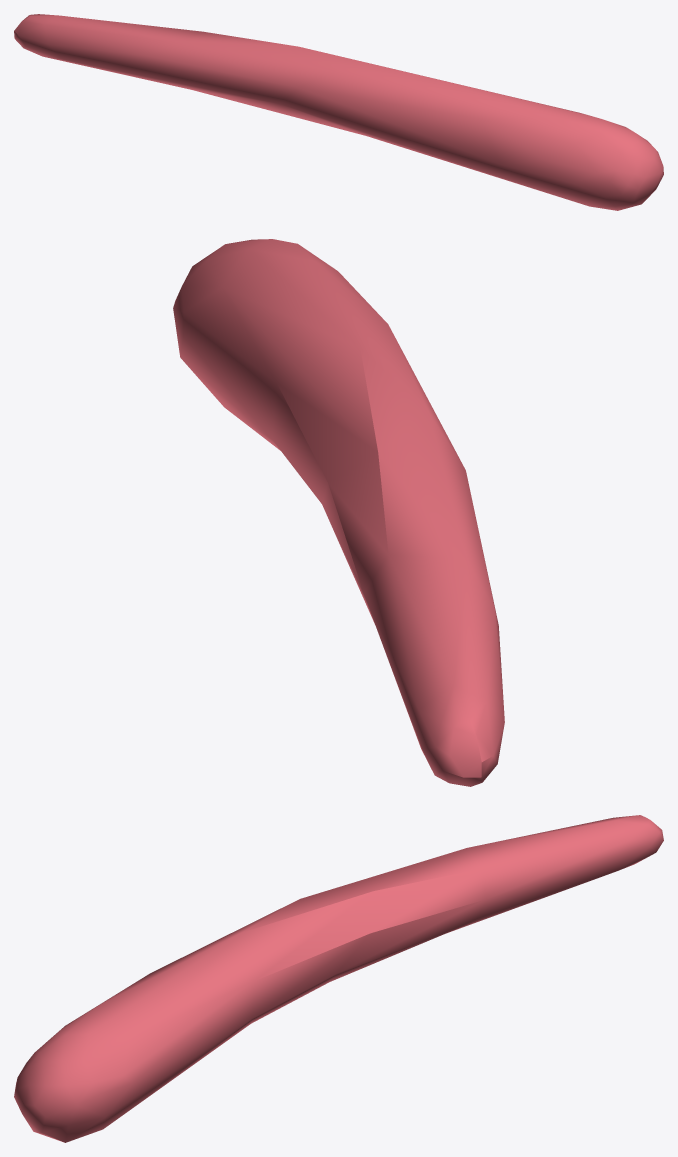
The model's file is fma9438_fj2941.glb.
3 views of the same model, one above another, from view 1: azimuth 30°, elevation 25°; view 2: azimuth 150°, elevation 25°; view 3: azimuth 270°, elevation 25° (orthographic). The views are drawn at different scales.
Visible parts, largest first — view 1: FMA9438_FJ2941; view 2: FMA9438_FJ2941; view 3: FMA9438_FJ2941.
Boxes of the visible parts, box(x1,y1,x2,y2) form: FMA9438_FJ2941: box(14, 14, 663, 210); FMA9438_FJ2941: box(173, 239, 504, 786); FMA9438_FJ2941: box(14, 815, 663, 1142).
Bounding box in the file's own units: 0.0128 × 0.00345 × 0.0152.
